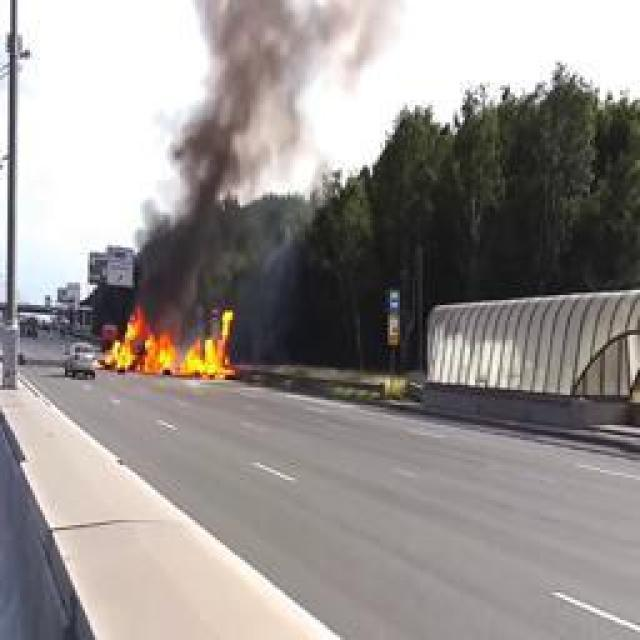Fire: (101, 308, 236, 382)
